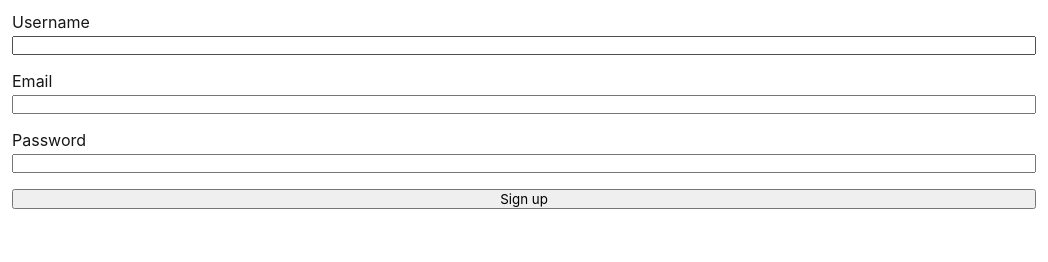
it: RegisterForm › renders a duplicate-username/email API error
Step 1. Type "taken" into the field labelled "Username" → (524, 46), box [12,36,1036,55]
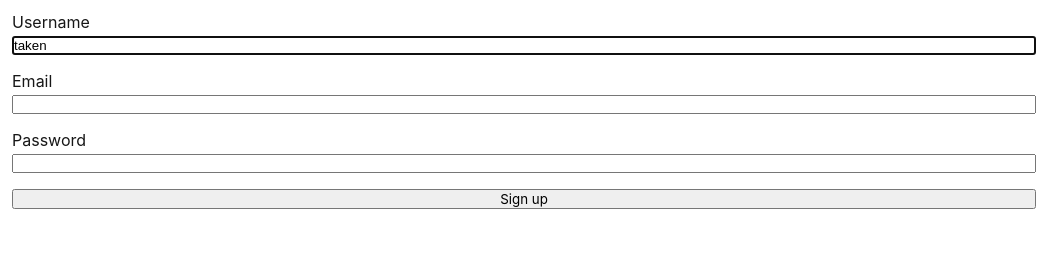
Step 2. Type "alice@example.com" into the field labelled "Email" → (524, 104), box [12,95,1036,114]
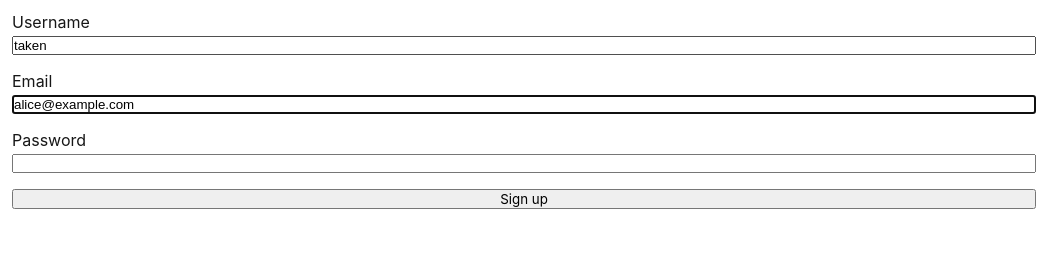
Step 3. Type "correct-password" into the password field labelled "Password" → (524, 164), box [12,154,1036,173]
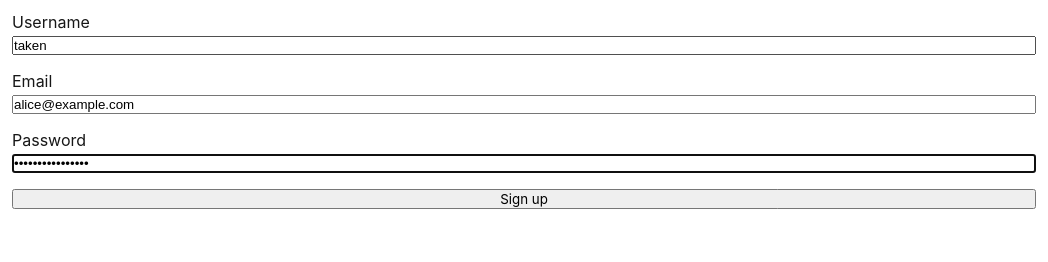
Step 4. Click the button "Sign up" → (524, 199), box [12,189,1036,209]
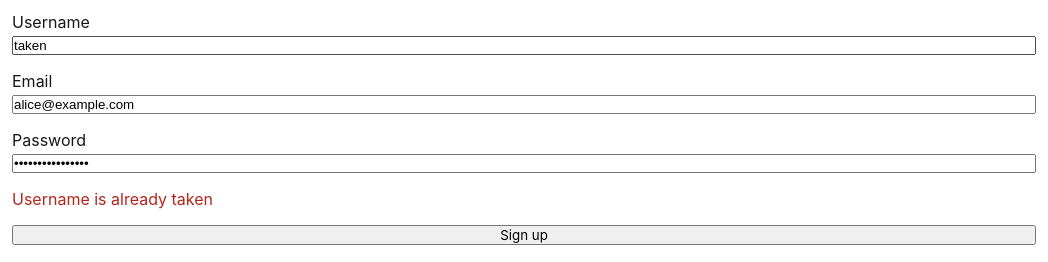
expect the message reads "Username is already taken": met, box [12,189,213,209]
